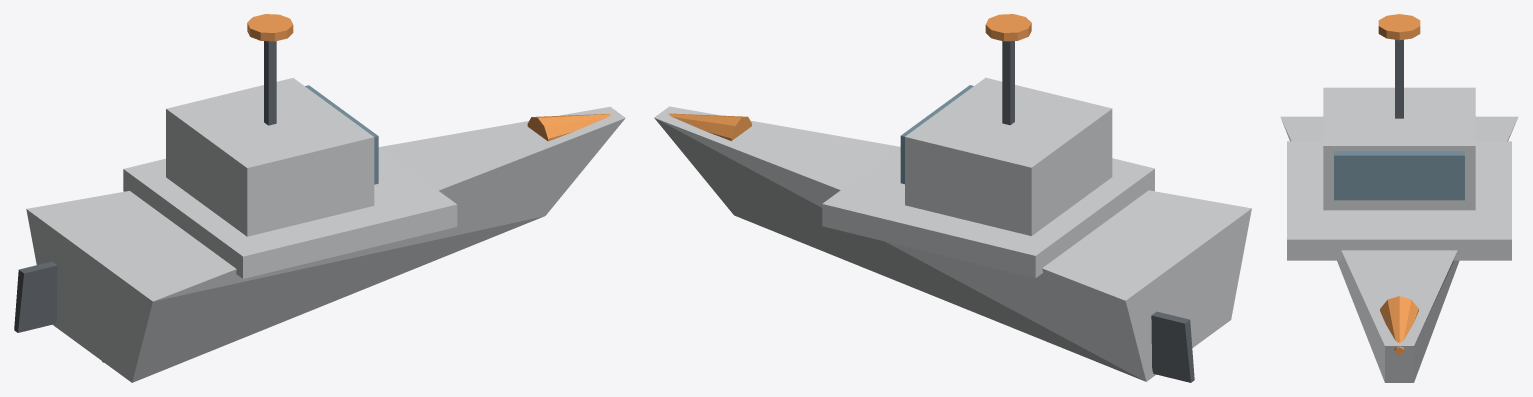
The model's file is boat.glb.
3 views of the same model, side by side, from view 1: azimuth 30°, elevation 25°; view 2: azimuth 150°, elevation 25°; view 3: azimuth 270°, elevation 25° (orthographic). The views are drawn at different scales.
Bounding box in the file's own units: 4.24 × 2.13 × 1.64.
